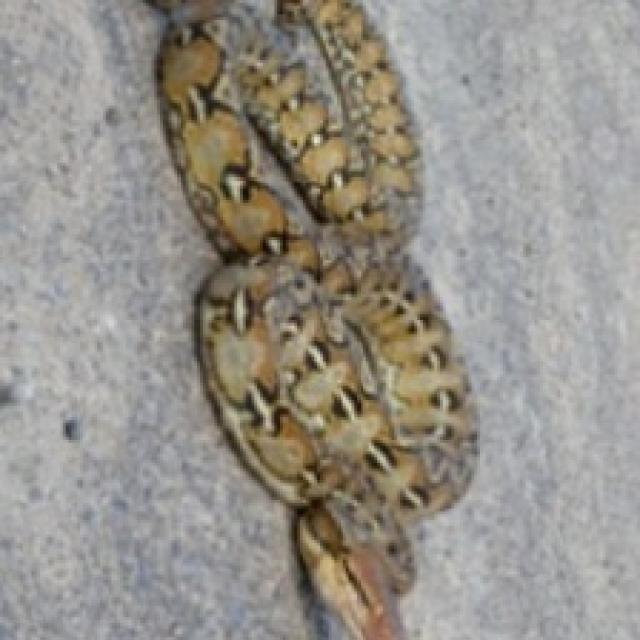reticulated python: (157, 0, 474, 637)
